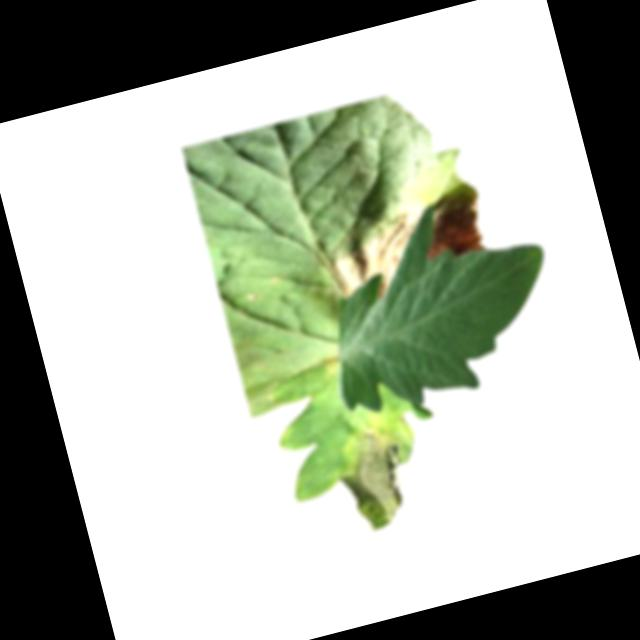Late_blight: (320, 205, 439, 310), (332, 422, 425, 534), (409, 182, 493, 266)
healthy: (313, 231, 571, 421)
